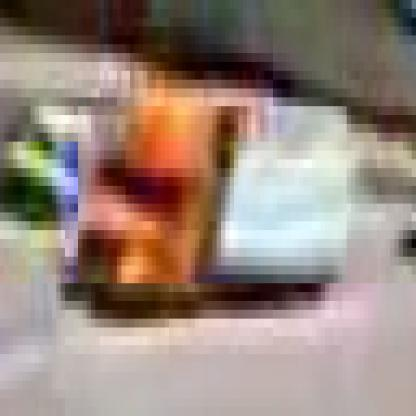container: (75, 107, 348, 293)
